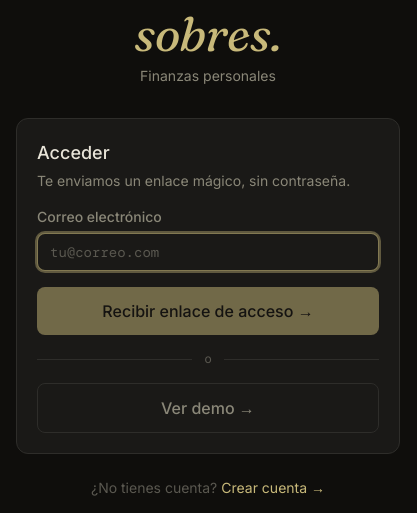
it: LoginPage › shows confirmation after successful magic link send
This screenshot has width=417, height=513.
In the field labelled "Correo electrónico": (208, 252) [37,233,379,271], type "user@test.com"
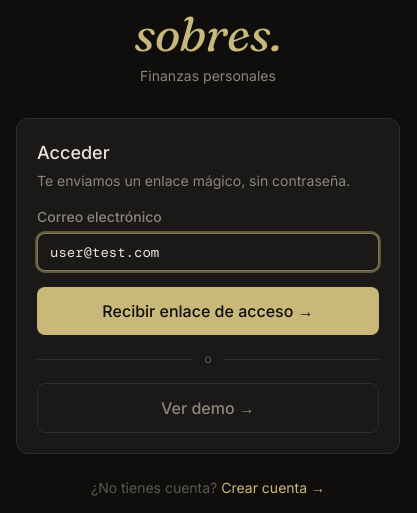
Click the button "Recibir enlace de acceso →": click(208, 311) [37,287,379,335]
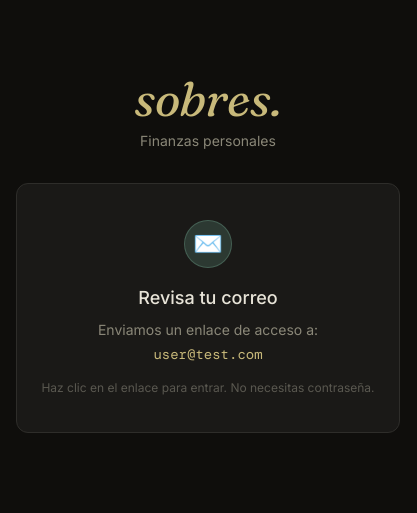
Now the heading "Revisa tu correo" is shown, box [138,287,278,308]
